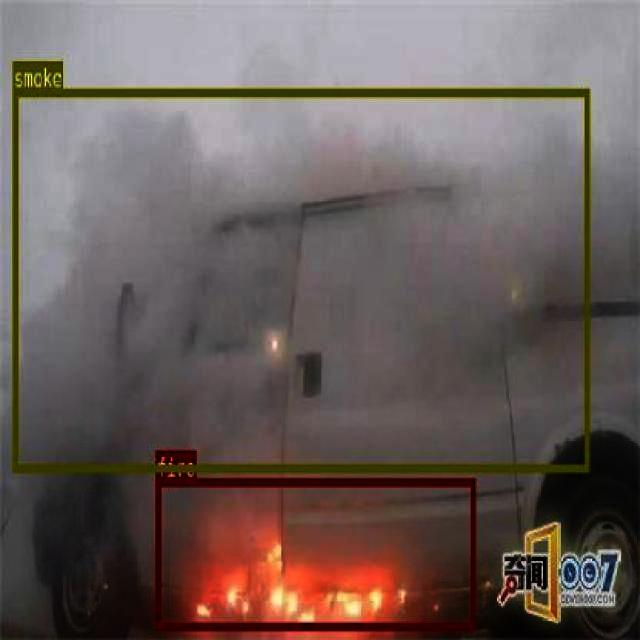fire: (155, 477, 474, 628)
smoke: (12, 87, 590, 470)
